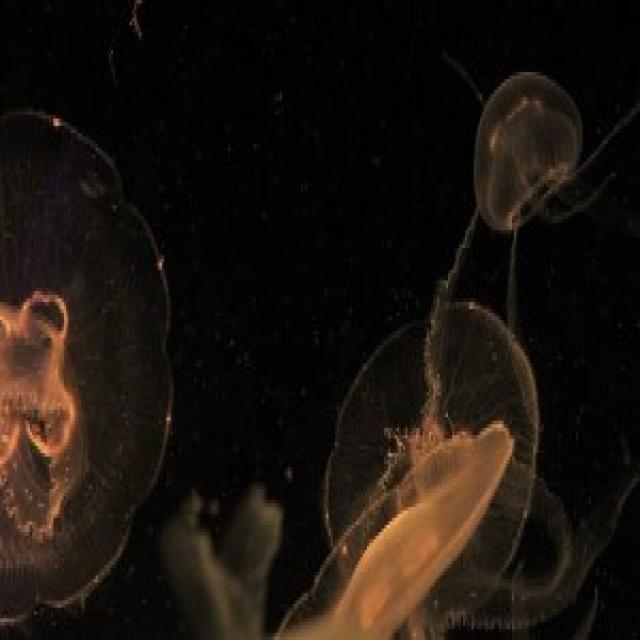Jellyfish: (0, 104, 179, 640), (296, 298, 551, 640), (448, 74, 605, 228)
